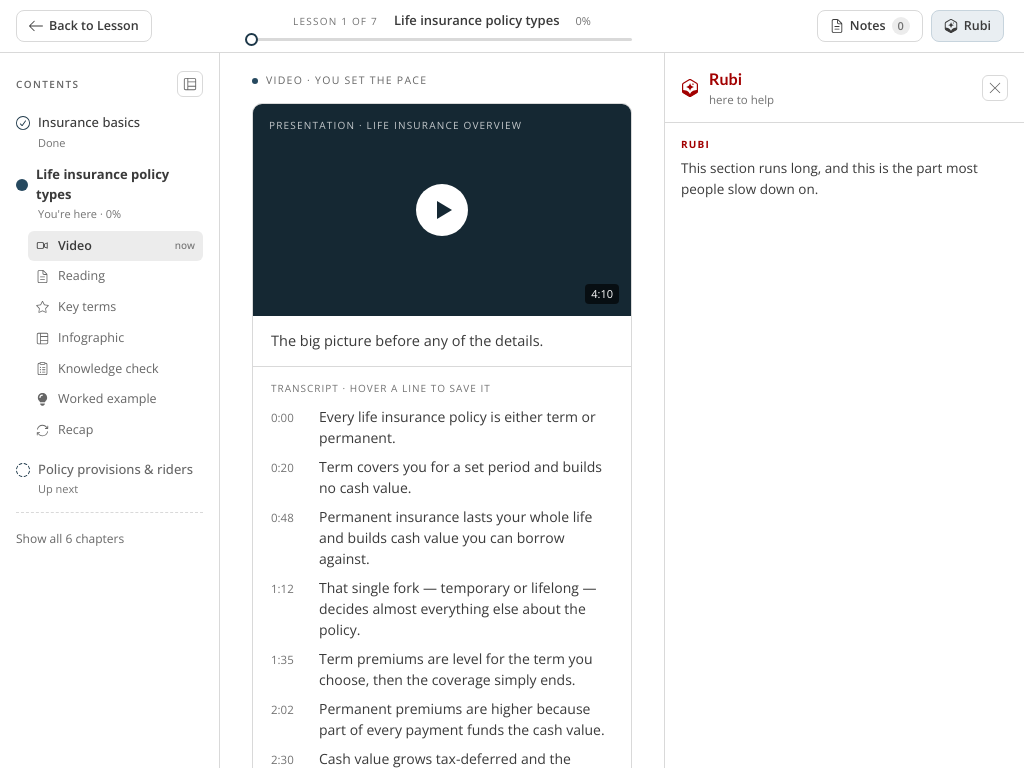
it: the Compass session › opens Rubi on the nudge, and lets it be closed
The image size is (1024, 768).
Expected: the text "This section runs long" is shown, x1=681 y1=159 x2=978 y2=198
Click the button named "Close Rubi": coordinates (995, 88) x1=982 y1=75 x2=1008 y2=101
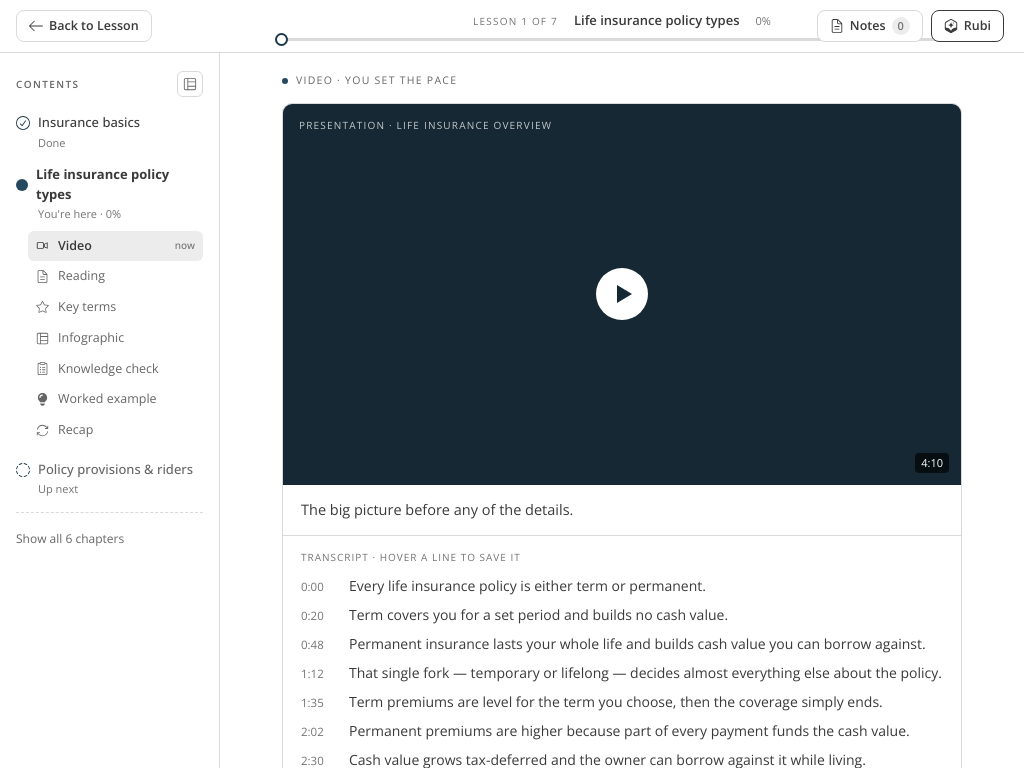
Expected: the text "This section runs long" is gone
